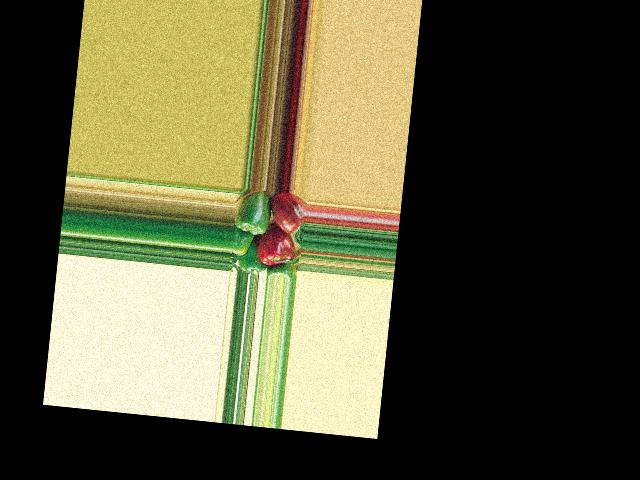bell_pepper: (270, 191, 306, 234)
